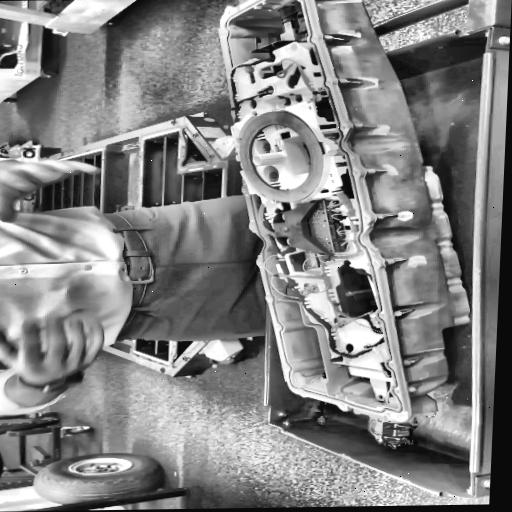bms_unit: (214, 0, 476, 424)
